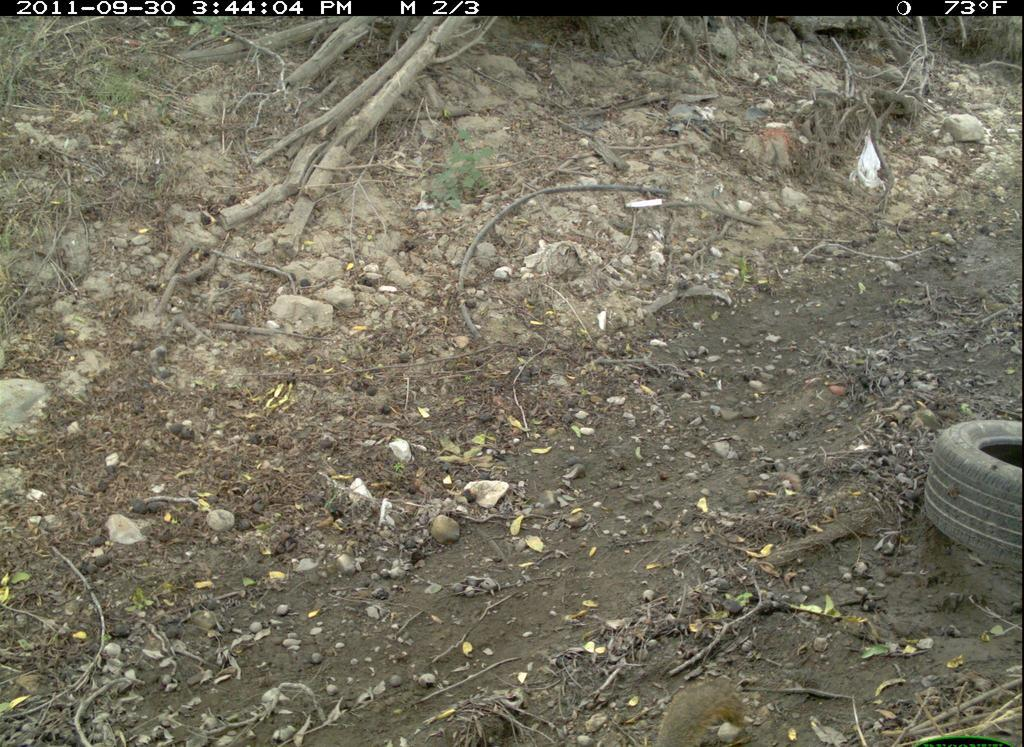squirrel: (642, 667, 762, 747)
